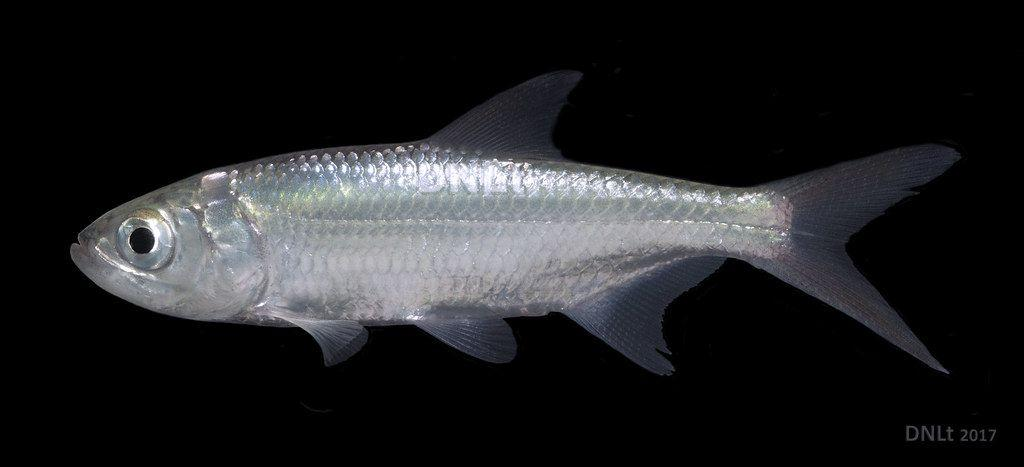Indo-Pacific Tarpon: (68, 66, 949, 391)
